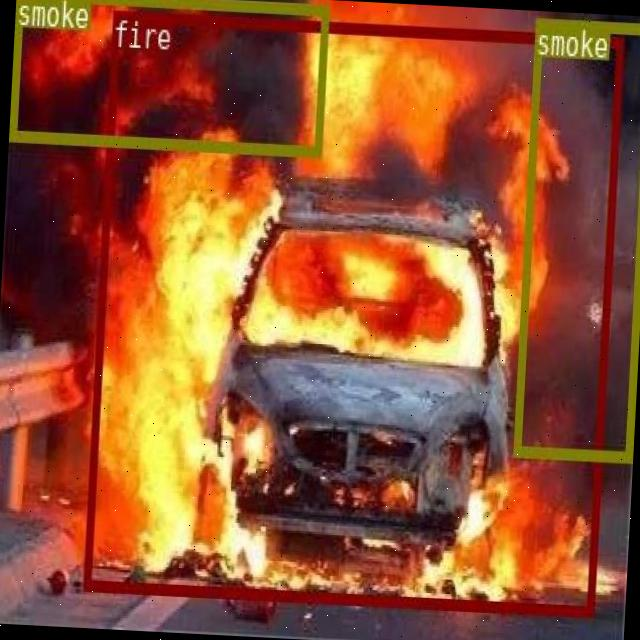fire: (82, 8, 622, 614)
smoke: (512, 16, 640, 459), (9, 0, 328, 154)
